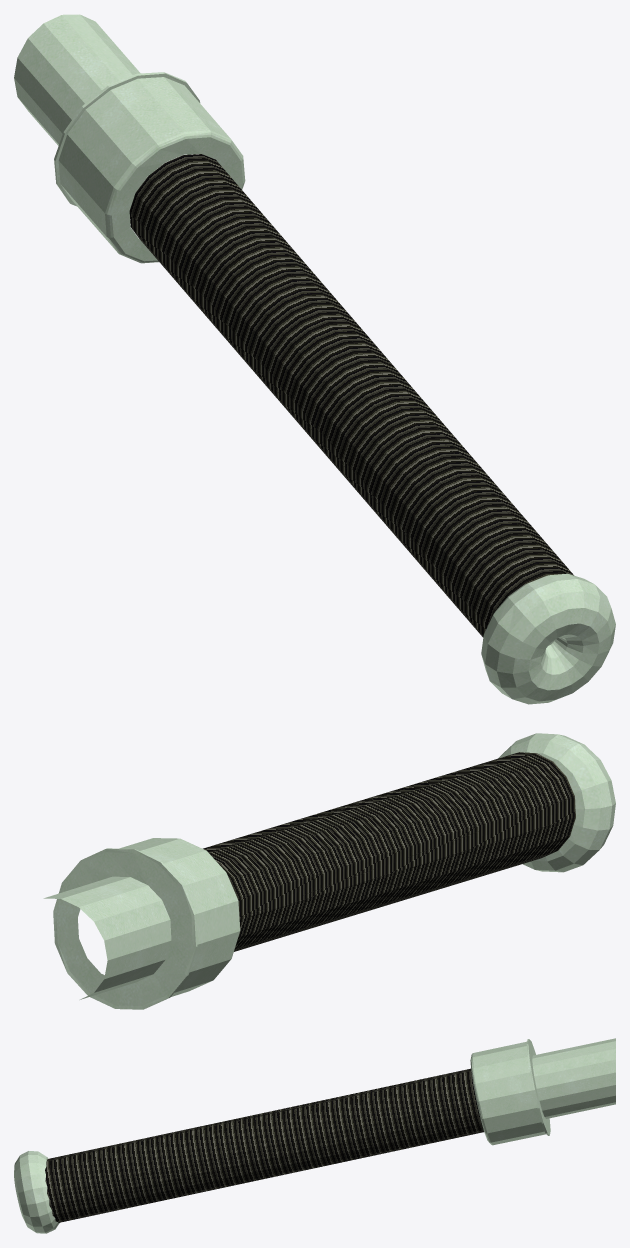
Rendered from jjyz002-geode.glb.
The picture shows the model from 3 angles, top to bottom: view 1: azimuth 30°, elevation 25°; view 2: azimuth 150°, elevation 25°; view 3: azimuth 270°, elevation 25°; orthographic projection. The views are drawn at different scales.
Parts seen in each view (by area): view 1: Node; view 2: Node; view 3: Node.
Boxes of the visible parts, x1,y1,x2,y2 form: Node: (14, 14, 615, 704); Node: (43, 733, 615, 1009); Node: (14, 1038, 615, 1233).
Bounding box in the file's own units: 0.929 × 1.98 × 5.66.
Materials: 2 (2 with a texture image).
